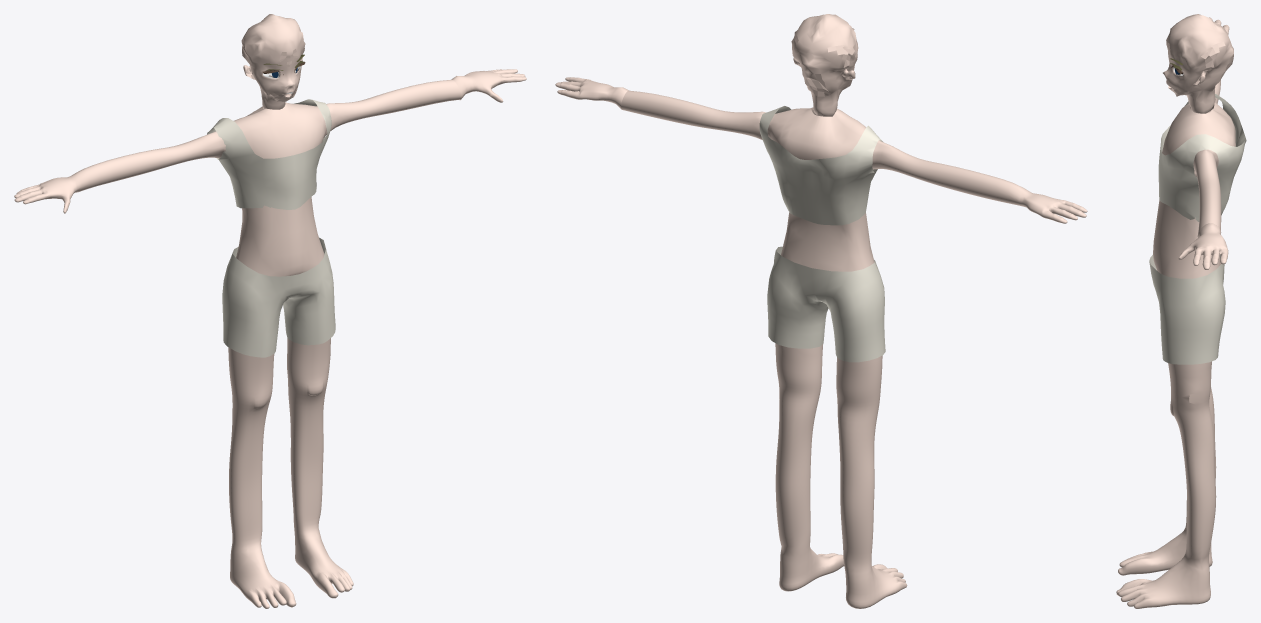
File: base_avatar4.glb
3 views of the same model, side by side, from view 1: azimuth 30°, elevation 25°; view 2: azimuth 150°, elevation 25°; view 3: azimuth 270°, elevation 25° (orthographic). The views are drawn at different scales.
Parts seen in each view (by area): view 1: body, underware, headpart; view 2: body, underware, headpart; view 3: body, underware, headpart.
Boxes of the visible parts, x1=… form: body: x1=14, y1=69, x2=526, y2=608; underware: x1=207, y1=99, x2=335, y2=357; headpart: x1=241, y1=14, x2=305, y2=109; body: x1=555, y1=77, x2=1087, y2=608; underware: x1=759, y1=106, x2=885, y2=362; headpart: x1=791, y1=14, x2=858, y2=116; body: x1=1116, y1=17, x2=1235, y2=608; underware: x1=1149, y1=94, x2=1246, y2=364; headpart: x1=1163, y1=14, x2=1233, y2=113.
Bounding box in the file's own units: 12.36 × 13.01 × 2.69.
10 materials, 9 textured.
